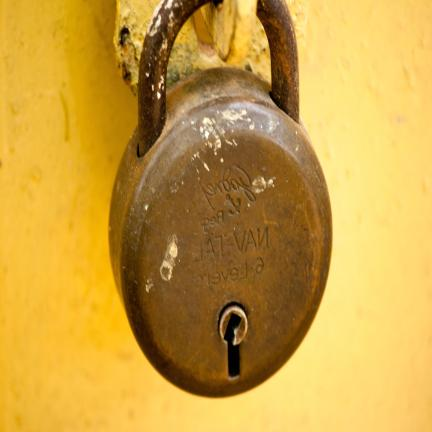karat: (107, 0, 331, 395)
